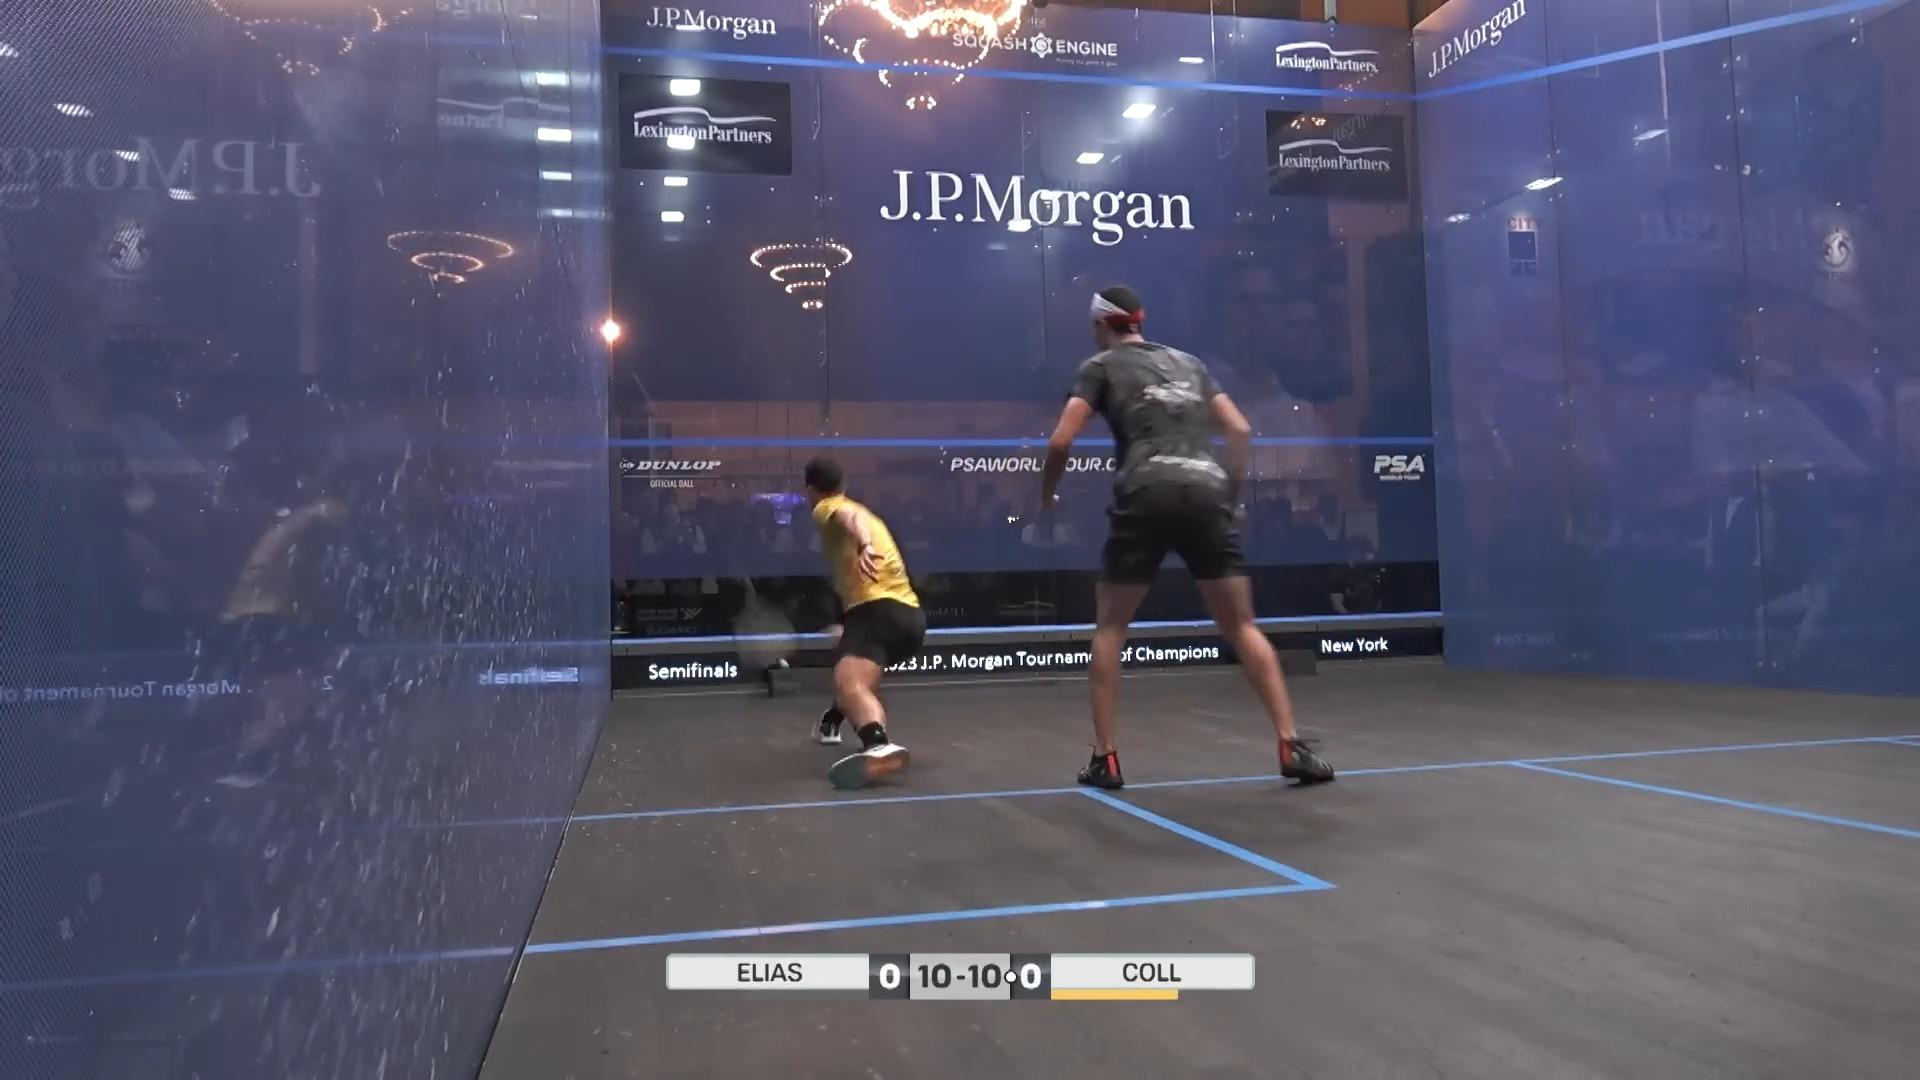Racket: (731, 591, 837, 667)
